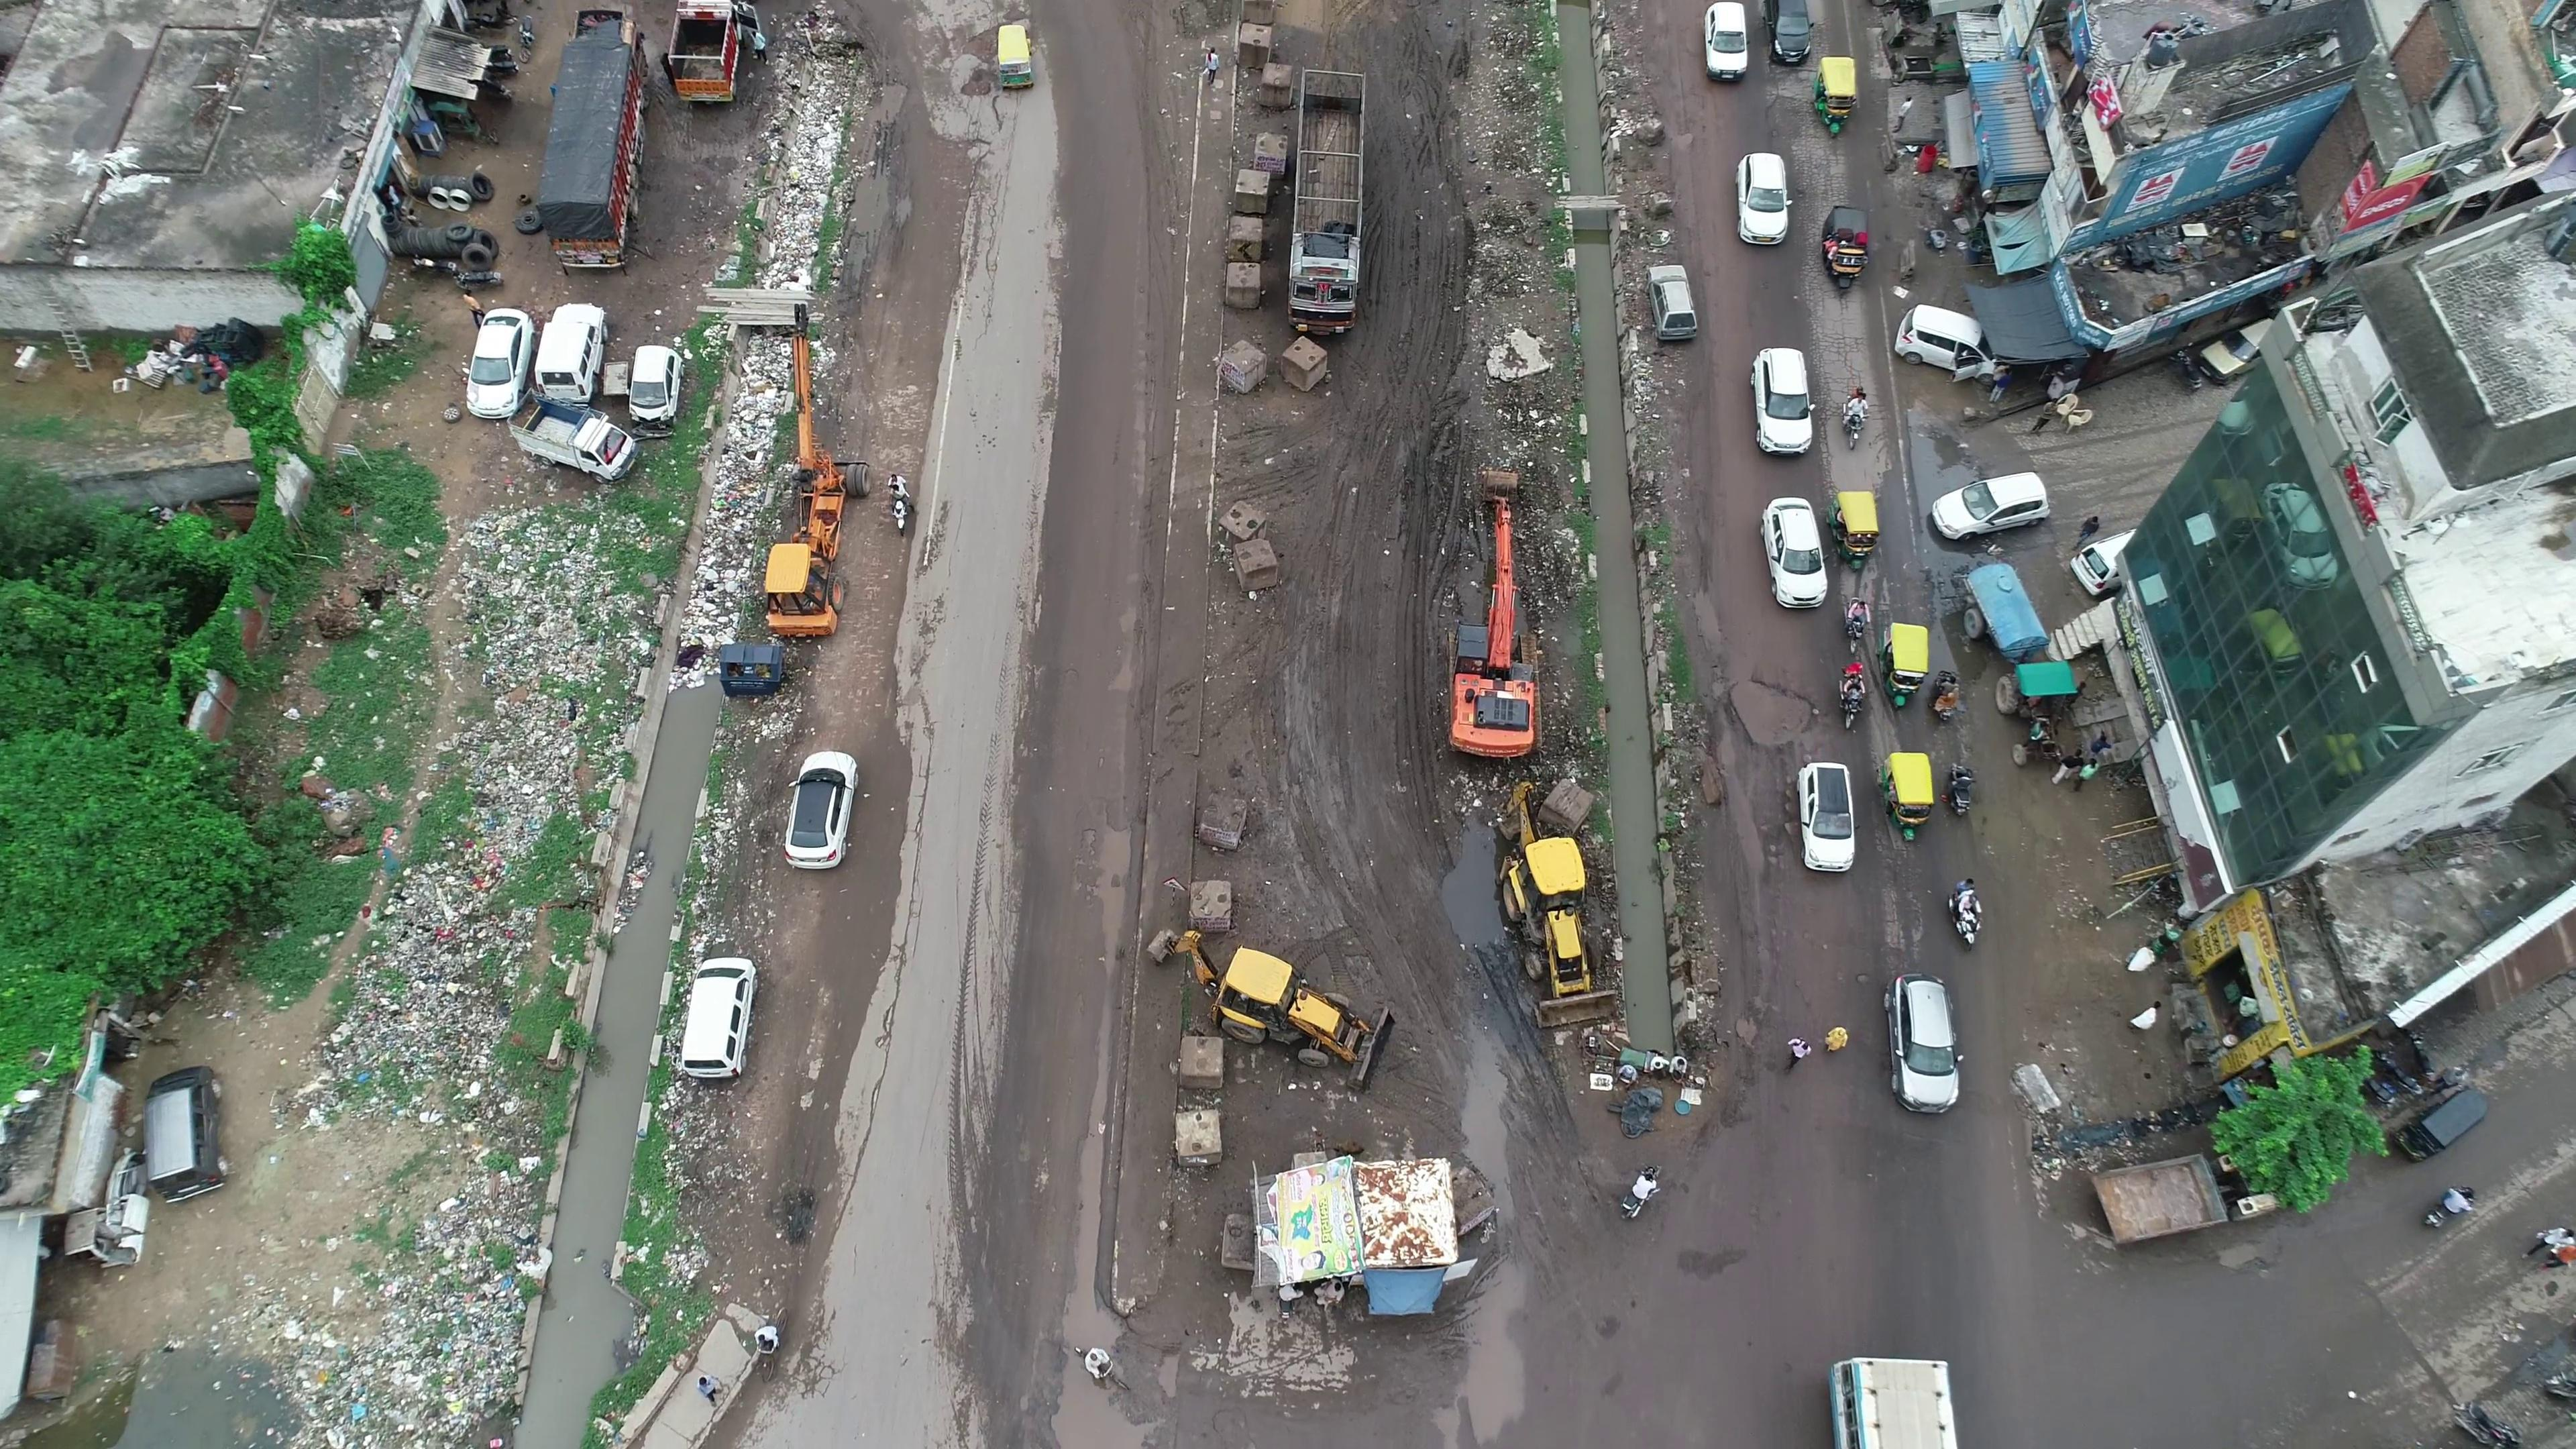Longitudinal_cracks: (855, 717, 957, 1065)
Muddy_road: (1060, 347, 1152, 697), (1077, 46, 1143, 327)
Potholes: (1721, 672, 1824, 757), (1063, 821, 1106, 911)
Road_side_garbage: (674, 354, 787, 655), (766, 80, 853, 288)
